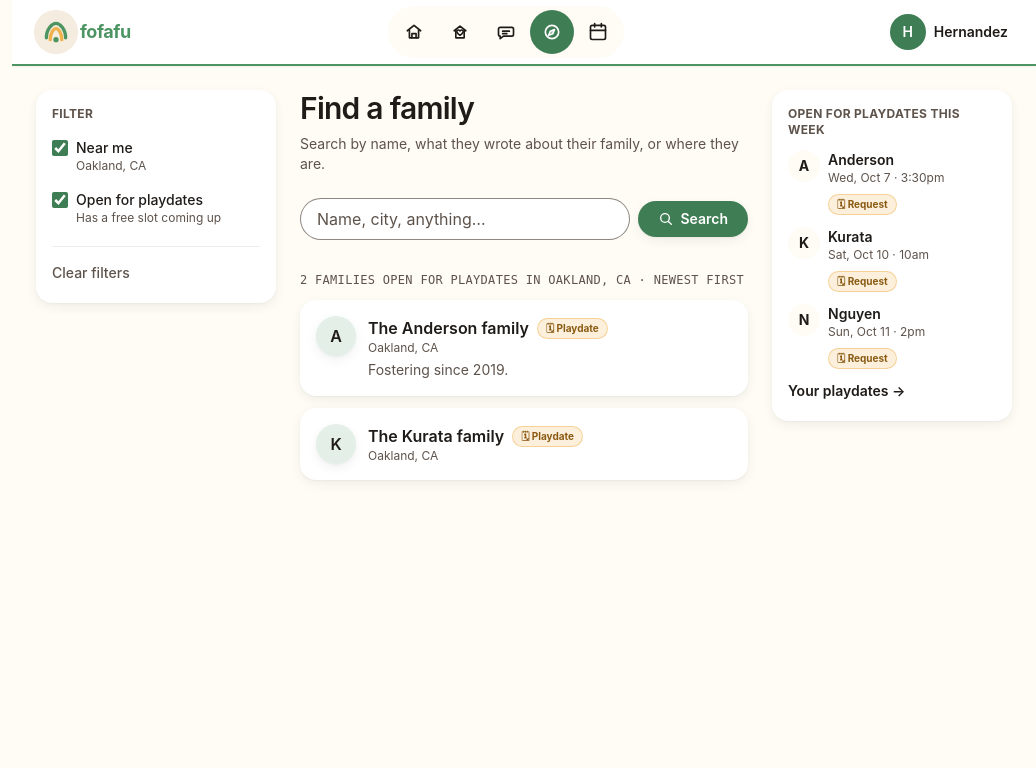
SearchPage filters with a query › keeps the filters when a query is submitted
Type "an" into the field named "Search".
click(465, 219); type("an")  # box [300,198,630,240]
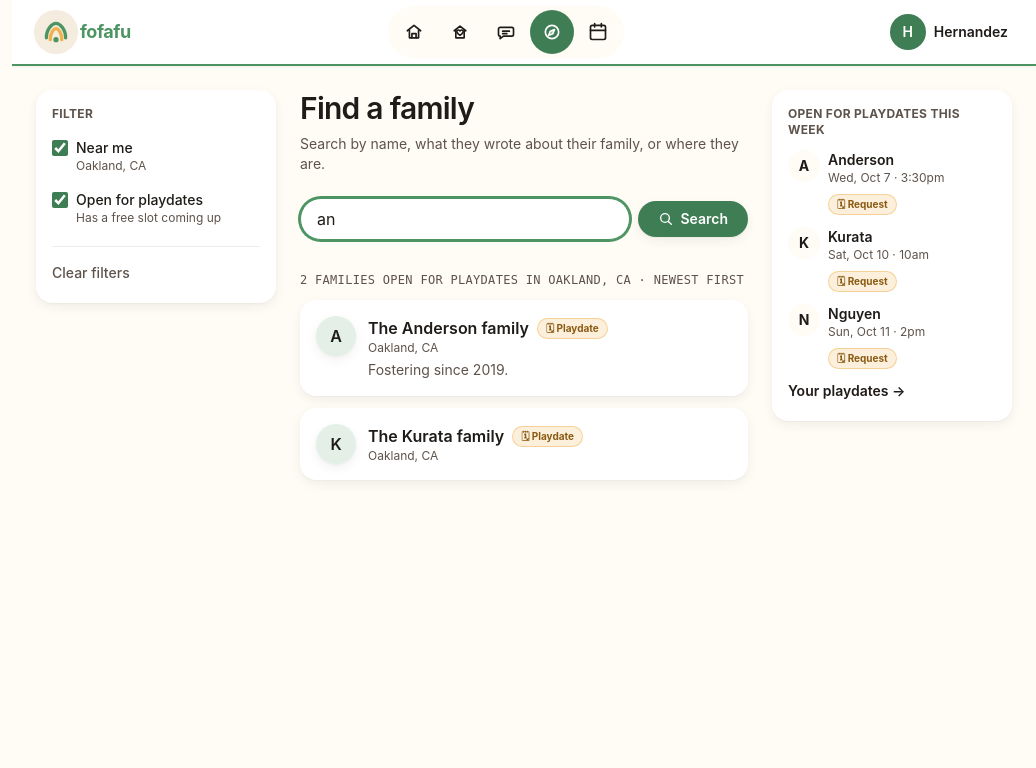
Click the button "Search".
click(693, 219)  # box [638,201,748,237]
(page scrolled)
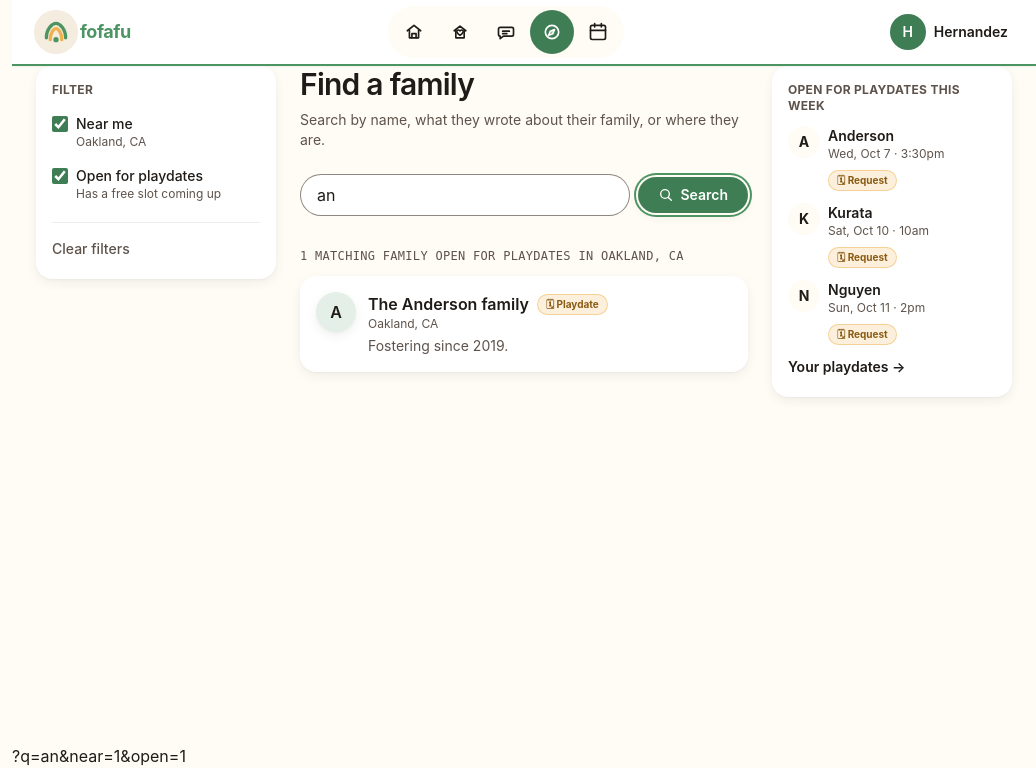
Check: the text with test id "location-search" reads "?q=an&near=1&open=1", box [12,746,186,766]
